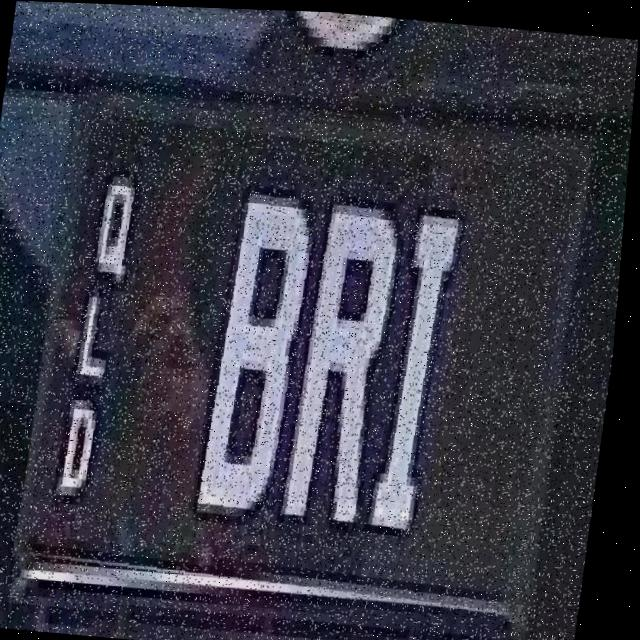LicensePlate: (23, 87, 598, 610)
